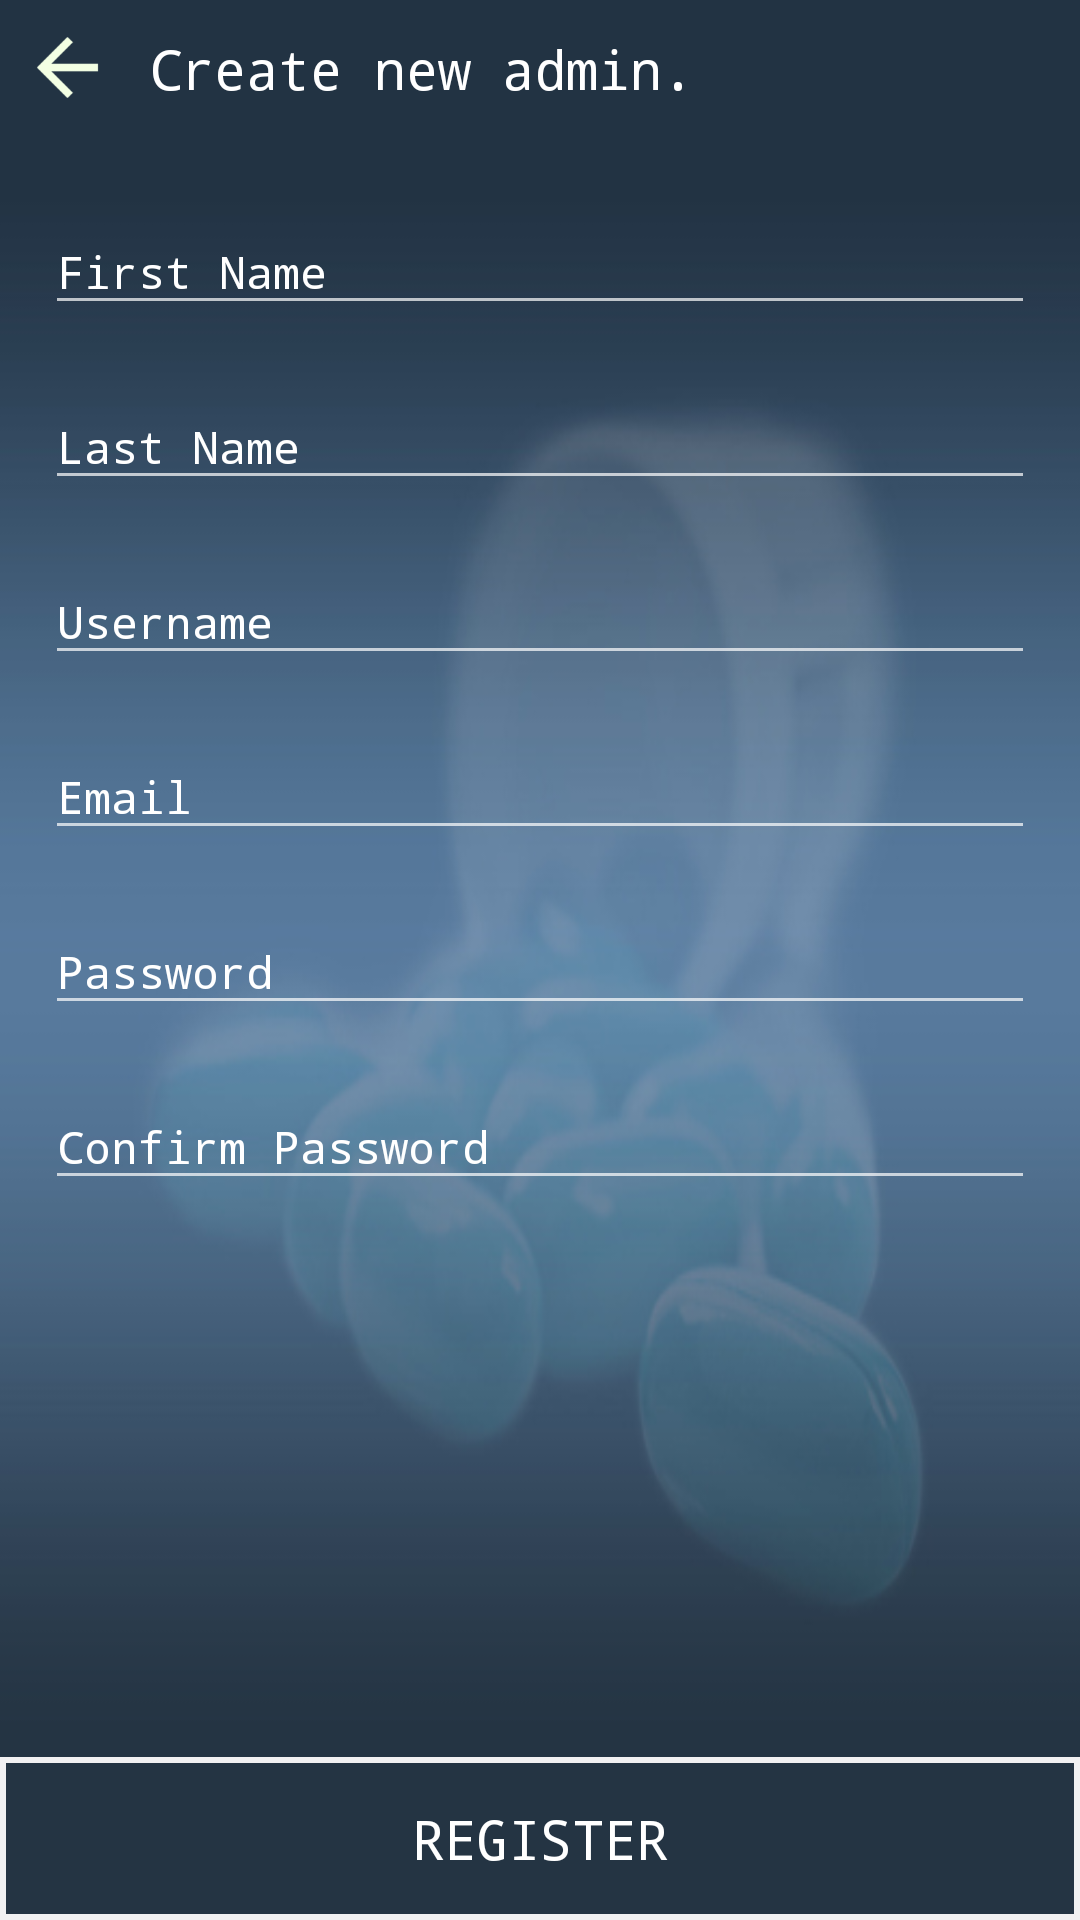

Point at icon controls on the screen. Image size 1080x1920, points as (x=x, y=y).
arrow back: (x=67, y=67)
